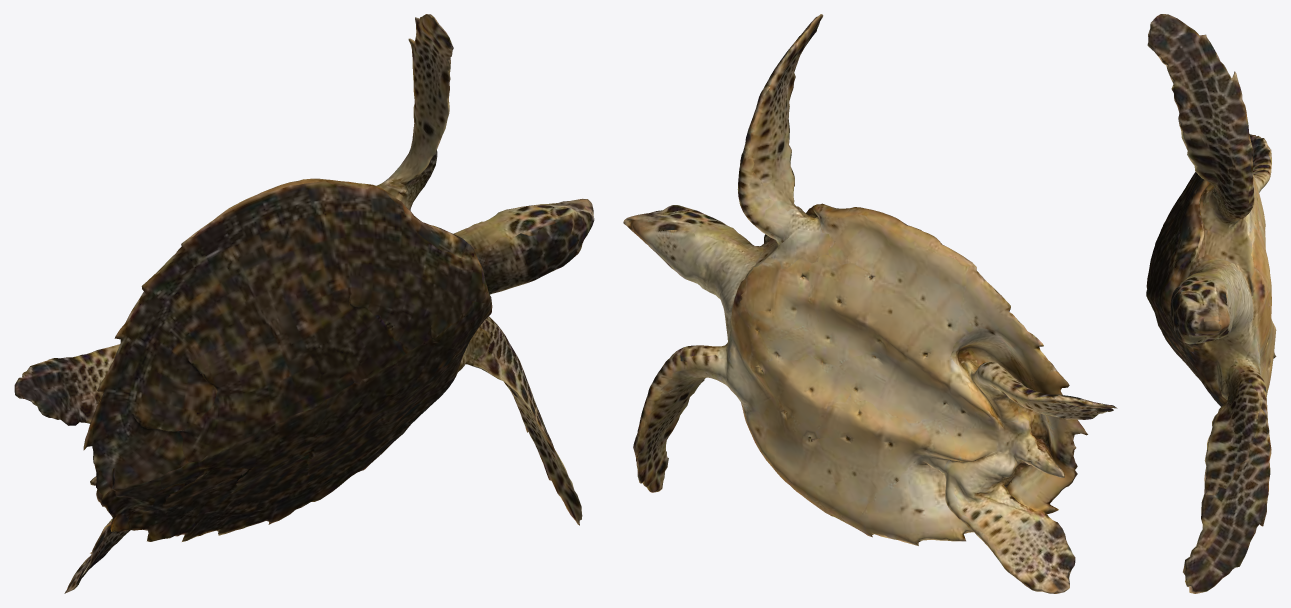
The model's file is sea_turtle-20k-thumb.glb.
3 views of the same model, side by side, from view 1: azimuth 30°, elevation 25°; view 2: azimuth 150°, elevation 25°; view 3: azimuth 270°, elevation 25° (orthographic). The views are drawn at different scales.
Size of the model in its own units: 0.4947 by 0.4701 by 0.1095.
Materials: 1 (1 with a texture image).
